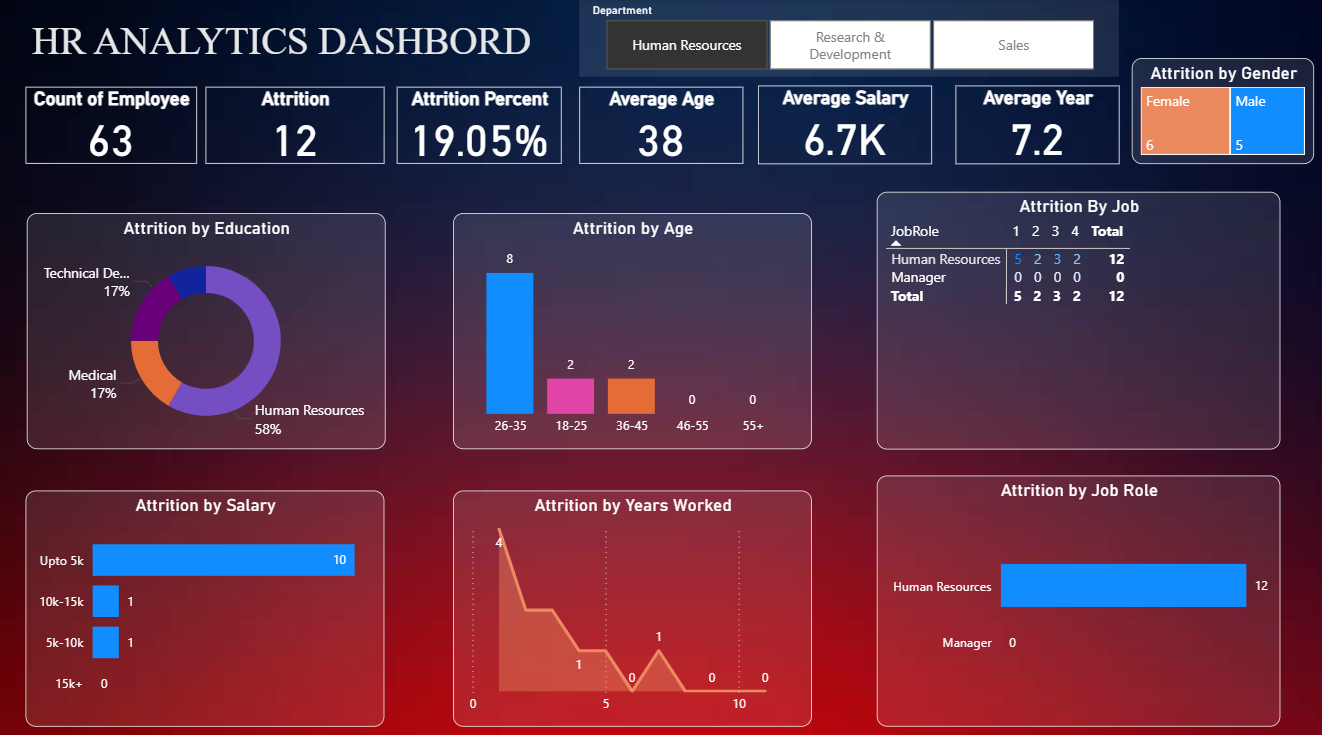

Layout of this report page (visuals, bound fields, positions):
{"tool":"powerbi","page":{"name":"Page 1","canvas":[1280,720],"ordinal":0},"visuals":[{"type":"card","title":"Count of Employee","fields":{"Values":["CountNonNull(HR_Analytics.EmpID)"]},"box":[26.5,85.7,165.3,74.8],"z":0},{"type":"card","title":"Attrition","fields":{"Values":["Sum(HR_Analytics.AttritionCount)"]},"box":[200.3,85.7,172.5,74.8],"z":1000},{"type":"card","title":"Attrition Percent","fields":{"Values":["HR_Analytics.AttritionRate"]},"box":[384.9,85.7,159.3,74.8],"z":2000},{"type":"card","title":"Average Age","fields":{"Values":["Avg(HR_Analytics.Age)"]},"box":[561,85.7,158,74.8],"z":3000},{"type":"card","title":"Average Salary","fields":{"Values":["Avg(HR_Analytics.MonthlyIncome)"]},"box":[733.5,84.5,167.7,76],"z":4000},{"type":"card","title":"Average Year","fields":{"Values":["Avg(HR_Analytics.YearsAtCompany)"]},"box":[924.1,84.5,158,76],"z":5000},{"type":"donutChart","title":"Attrition by Education","fields":{"Category":["HR_Analytics.EducationField"],"Y":["Sum(HR_Analytics.AttritionCount)"]},"box":[27.7,207.5,346.2,228],"z":6000},{"type":"columnChart","title":"Attrition by Age","fields":{"Category":["HR_Analytics.AgeGroup"],"Y":["Sum(HR_Analytics.AttritionCount)"]},"box":[439.1,207.5,346.2,228],"z":7000},{"type":"pivotTable","title":"Attrition By Job","fields":{"Rows":["HR_Analytics.JobRole"],"Columns":["HR_Analytics.JobSatisfaction"],"Values":["Sum(HR_Analytics.AttritionCount)"]},"box":[848.1,187,389.7,248.5],"z":8000},{"type":"barChart","title":"Attrition by Salary","fields":{"Category":["HR_Analytics.SalarySlab"],"Y":["Sum(HR_Analytics.AttritionCount)"]},"box":[26.5,475.3,346.2,228],"z":9000},{"type":"barChart","title":"Attrition by Job Role","fields":{"Category":["HR_Analytics.JobRole"],"Y":["Sum(HR_Analytics.AttritionCount)"]},"box":[848.1,460.9,389.7,242.5],"z":10000},{"type":"areaChart","title":"Attrition by Years Worked","fields":{"Category":["HR_Analytics.YearsAtCompany"],"Y":["Sum(HR_Analytics.AttritionCount)"]},"box":[439.1,475.3,346.2,228],"z":11000},{"type":"treemap","title":"Attrition by Gender","fields":{"Group":["HR_Analytics.Gender"],"Values":["Sum(HR_Analytics.AttritionCount)"]},"box":[1094.2,57.9,176.1,102.5],"z":12000},{"type":"slicer","fields":{"Values":["HR_Analytics.Department"]},"box":[561,0,521.2,76],"z":13000},{"type":"textbox","box":[27.7,14.5,492.2,61.5],"z":14000}]}

Visuals, with their boxes in screenshot pixels (x1, y1, x2, y2), scaled from the page's 1280x720 canvas onto the 1322x735 screenshot:
"Count of Employee" card: <bbox>27, 87, 198, 164</bbox>
"Attrition" card: <bbox>207, 87, 385, 164</bbox>
"Attrition Percent" card: <bbox>398, 87, 562, 164</bbox>
"Average Age" card: <bbox>579, 87, 743, 164</bbox>
"Average Salary" card: <bbox>758, 86, 931, 164</bbox>
"Average Year" card: <bbox>954, 86, 1118, 164</bbox>
"Attrition by Education" donutChart: <bbox>29, 212, 386, 445</bbox>
"Attrition by Age" columnChart: <bbox>454, 212, 811, 445</bbox>
"Attrition By Job" pivotTable: <bbox>876, 191, 1278, 445</bbox>
"Attrition by Salary" barChart: <bbox>27, 485, 385, 718</bbox>
"Attrition by Job Role" barChart: <bbox>876, 471, 1278, 718</bbox>
"Attrition by Years Worked" areaChart: <bbox>454, 485, 811, 718</bbox>
"Attrition by Gender" treemap: <bbox>1130, 59, 1312, 164</bbox>
slicer - HR_Analytics.Department: <bbox>579, 0, 1118, 78</bbox>
textbox: <bbox>29, 15, 537, 78</bbox>
